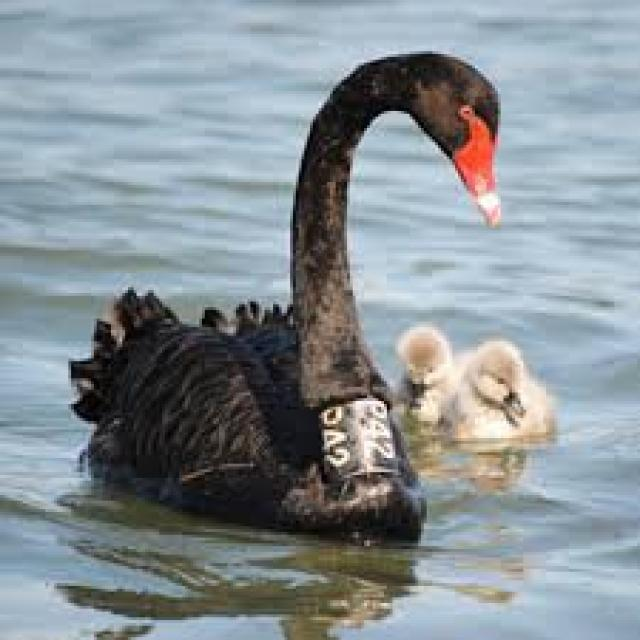swan: (68, 54, 504, 540), (438, 338, 549, 438), (394, 324, 458, 430)
